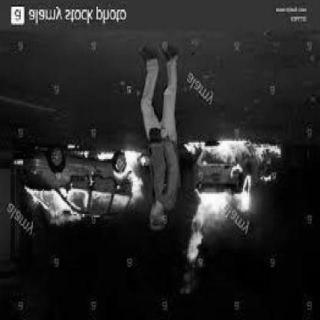Fire: (178, 139, 284, 295), (22, 146, 142, 242)
